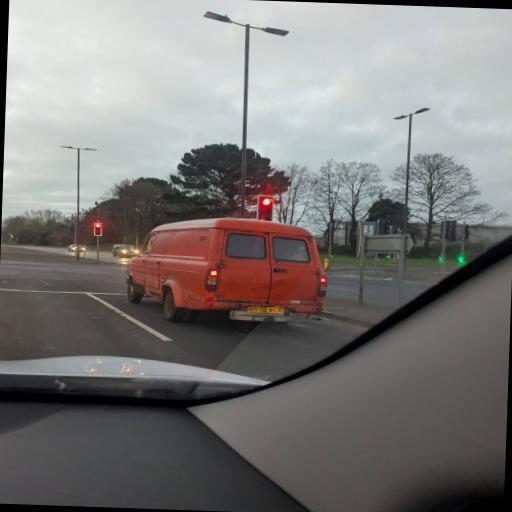numberplates: (248, 307, 284, 313)
